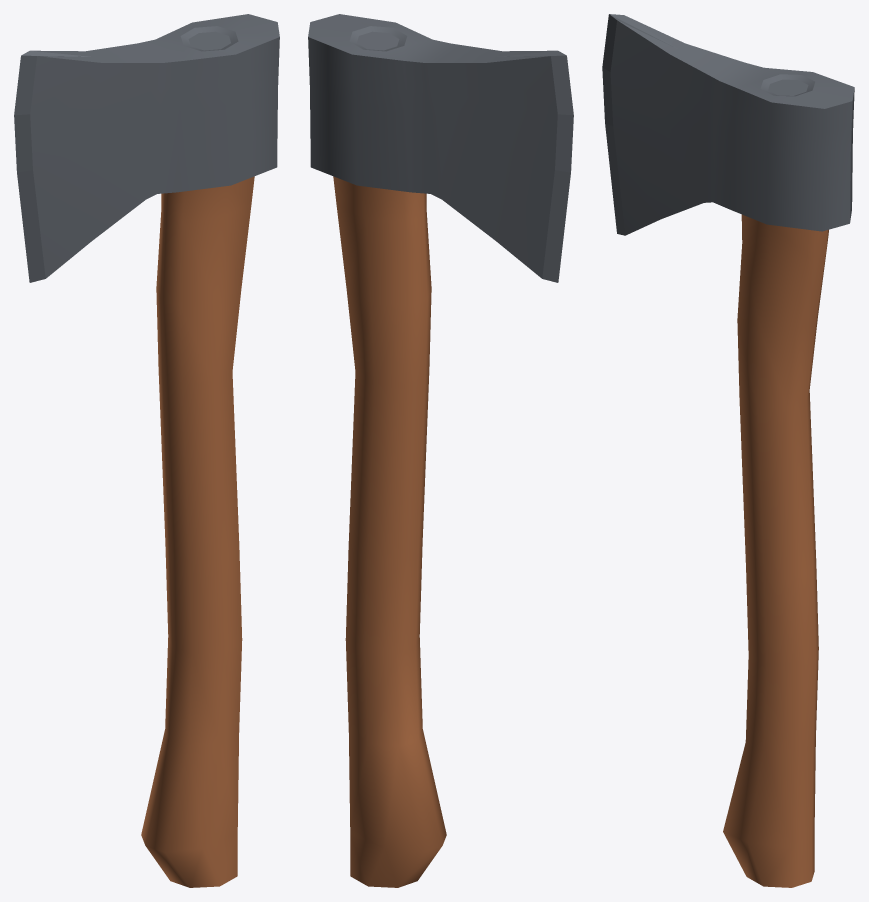
File: Axe.fbx
3 views of the same model, side by side, from view 1: azimuth 30°, elevation 25°; view 2: azimuth 150°, elevation 25°; view 3: azimuth 330°, elevation 25° (orthographic). The views are drawn at different scales.
Parts seen in each view (by area): view 1: axe; view 2: axe; view 3: axe.
Part boxes in pixels (x1=…): axe: x1=14, y1=14, x2=279, y2=887; axe: x1=308, y1=14, x2=573, y2=887; axe: x1=602, y1=14, x2=854, y2=887.
Bounding box in the file's own units: 28.32 × 88.45 × 8.14.
